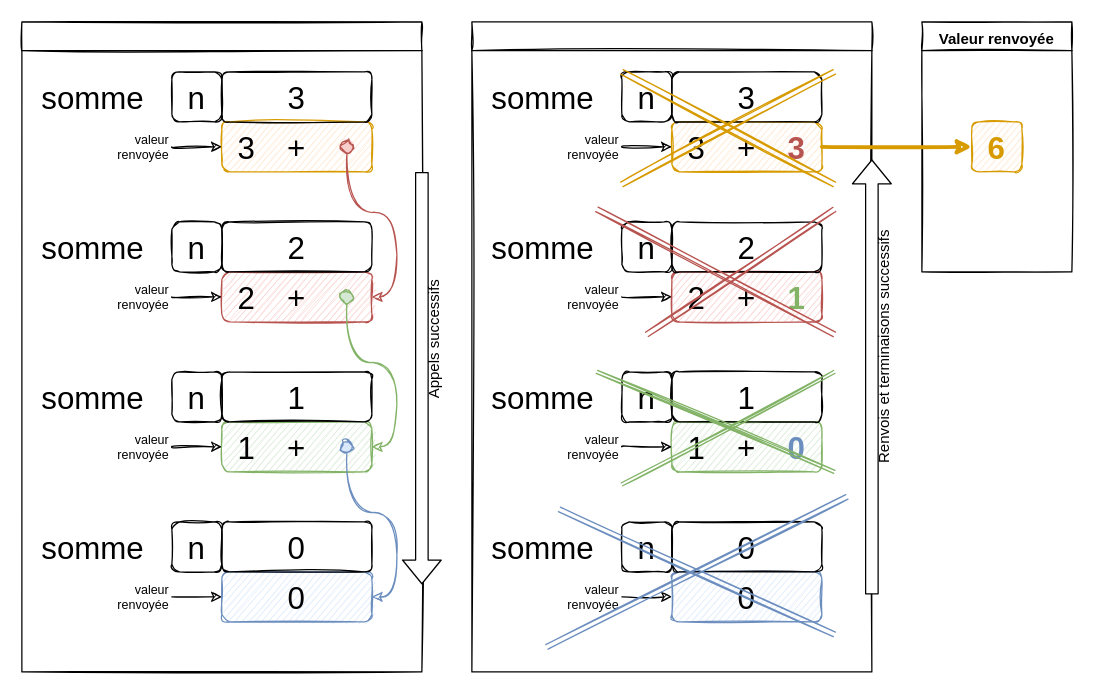
Some shapes in this 1094 by 694 pixel diagram are drawn without their labels. Each missing label, with the box of its shape:
Fonction qui se terminent successivement: (471, 21, 872, 672)
Fonctions appelées successivement: (21, 21, 422, 672)
